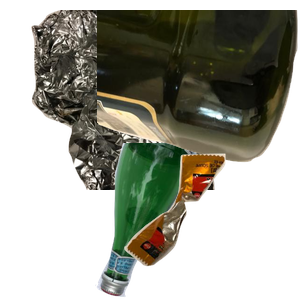glass: (93, 143, 284, 300)
metal: (29, 10, 269, 190)
plastic: (97, 10, 300, 165)
trash: (122, 151, 300, 300)
